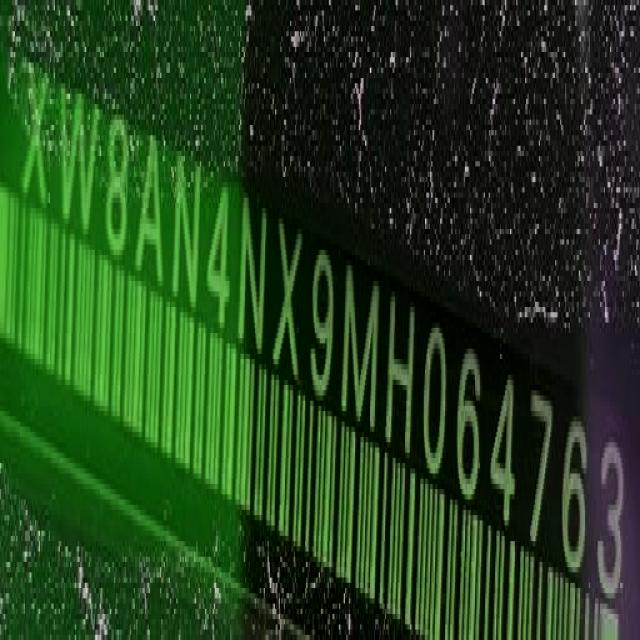0: (424, 317, 449, 487)
3: (600, 426, 628, 623)
4: (488, 350, 516, 524), (206, 178, 231, 322)
6: (456, 333, 482, 506), (562, 414, 588, 578)
7: (525, 378, 554, 563)
8: (100, 110, 131, 258)
9: (311, 244, 334, 416)
A: (135, 135, 167, 300)
H: (384, 285, 418, 453)
M: (346, 257, 381, 439)
N: (238, 190, 269, 364), (172, 158, 201, 318)
W: (60, 83, 100, 235)
X: (274, 214, 301, 388), (22, 58, 50, 210)
